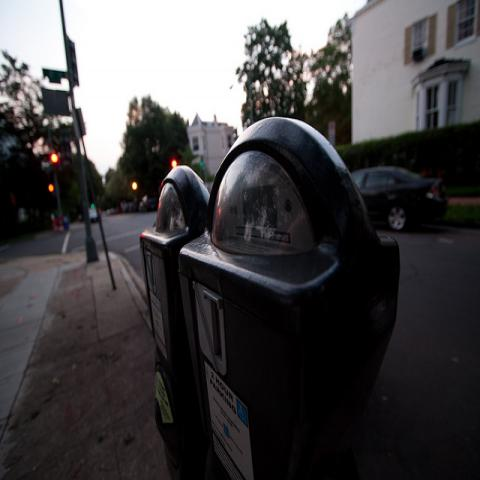car: (350, 166, 449, 231), (138, 193, 158, 211), (120, 194, 138, 212), (89, 203, 99, 222), (106, 207, 113, 215)
